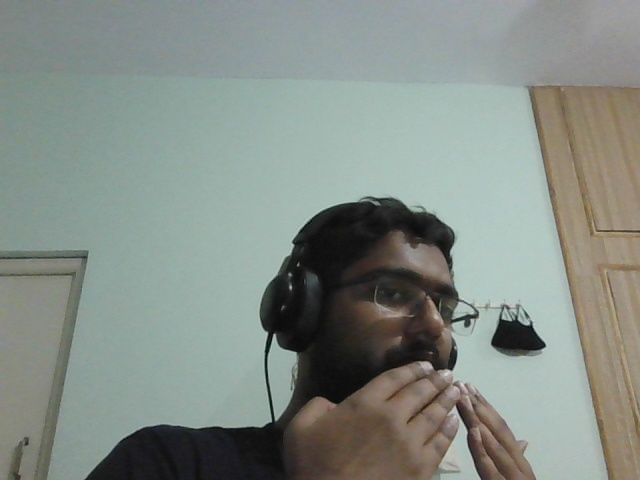Thank You: (264, 359, 554, 480)
